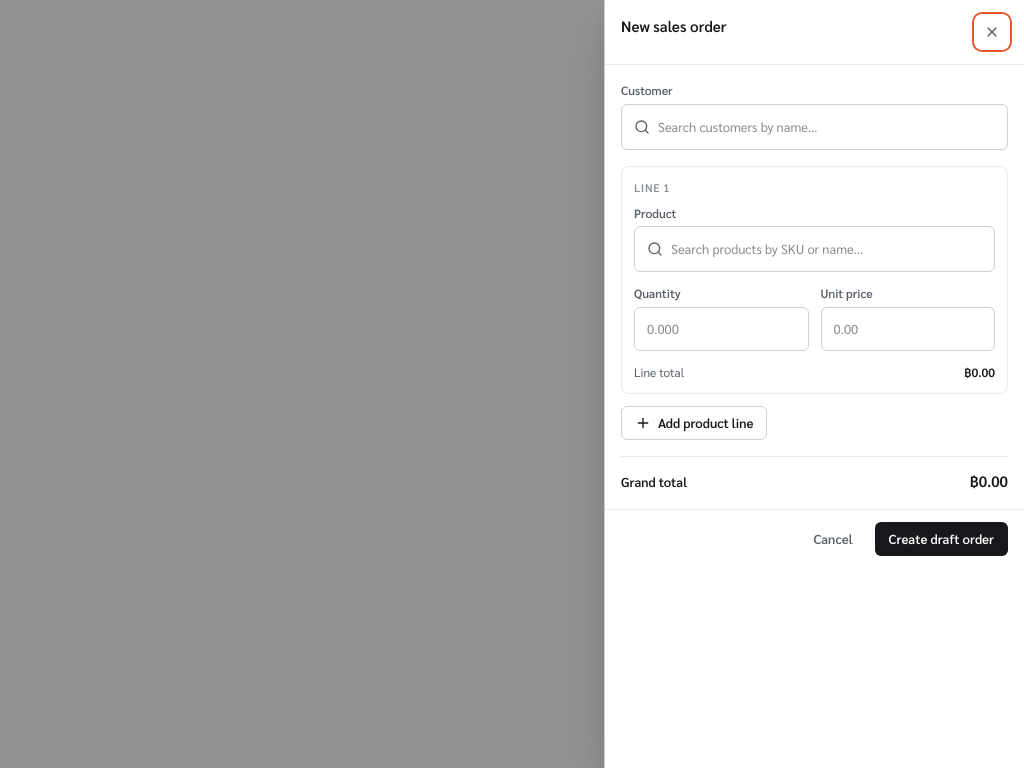
Test case: CreateSalesOrderDrawer — decimal-safe totals › adds a second product line on demand
Expected: the text "Line 1" is shown, left=634, top=179, right=670, bottom=196
Click the button "Add product line": (694, 423) left=621, top=406, right=767, bottom=440
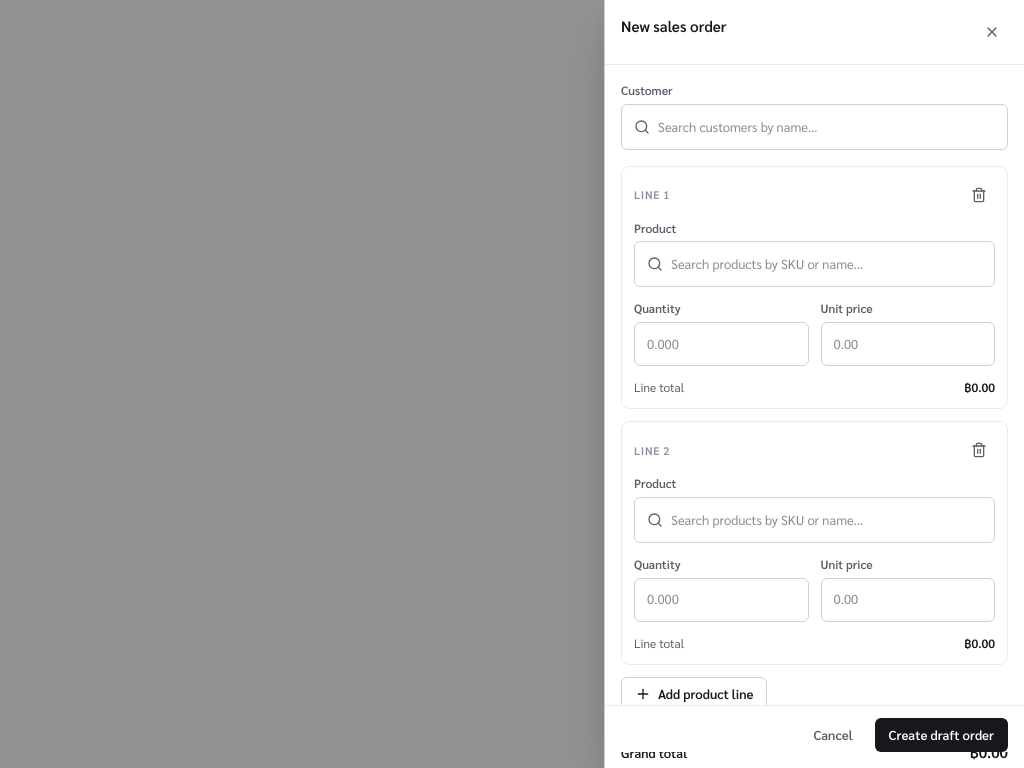
Now the text "Line 2" is shown, box left=634, top=442, right=670, bottom=459
